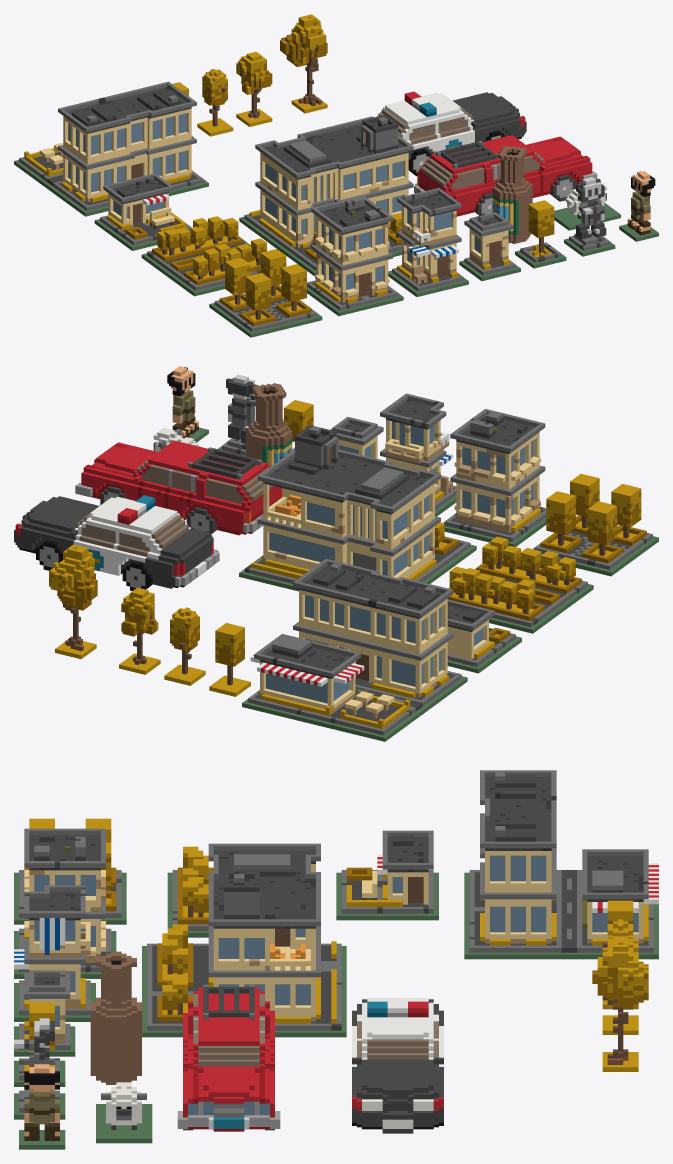
Rendered from Town2.obj.
3 views of the same model, one above another, from view 1: azimuth 30°, elevation 25°; view 2: azimuth 150°, elevation 25°; view 3: azimuth 270°, elevation 25° (orthographic). The views are drawn at different scales.
Size of the model in its own units: 126 by 31 by 126.
1 material, 1 textured.
